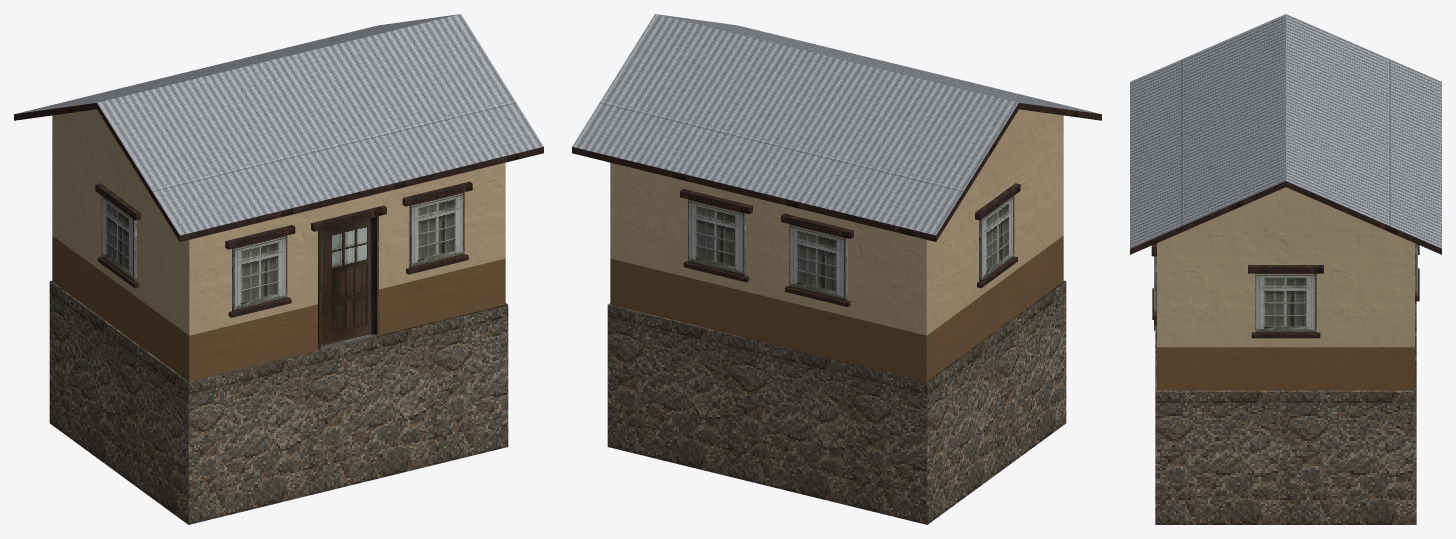
File: 03_casita_crema_calamina.glb
3 renders of one model, left to right at view 1: azimuth 30°, elevation 25°; view 2: azimuth 150°, elevation 25°; view 3: azimuth 270°, elevation 25°, orthographic. The views are drawn at different scales.
Parts seen in each view (by area): view 1: 03_casita_crema_calamina; view 2: 03_casita_crema_calamina; view 3: 03_casita_crema_calamina.
Boxes of the visible parts, left/top/right/bottom form: 03_casita_crema_calamina: left=14, top=14, right=543, bottom=524; 03_casita_crema_calamina: left=572, top=14, right=1101, bottom=524; 03_casita_crema_calamina: left=1130, top=14, right=1441, bottom=524.
Size of the model in its own units: 6.44 by 6.37 by 5.08.
7 materials, 7 textured.
